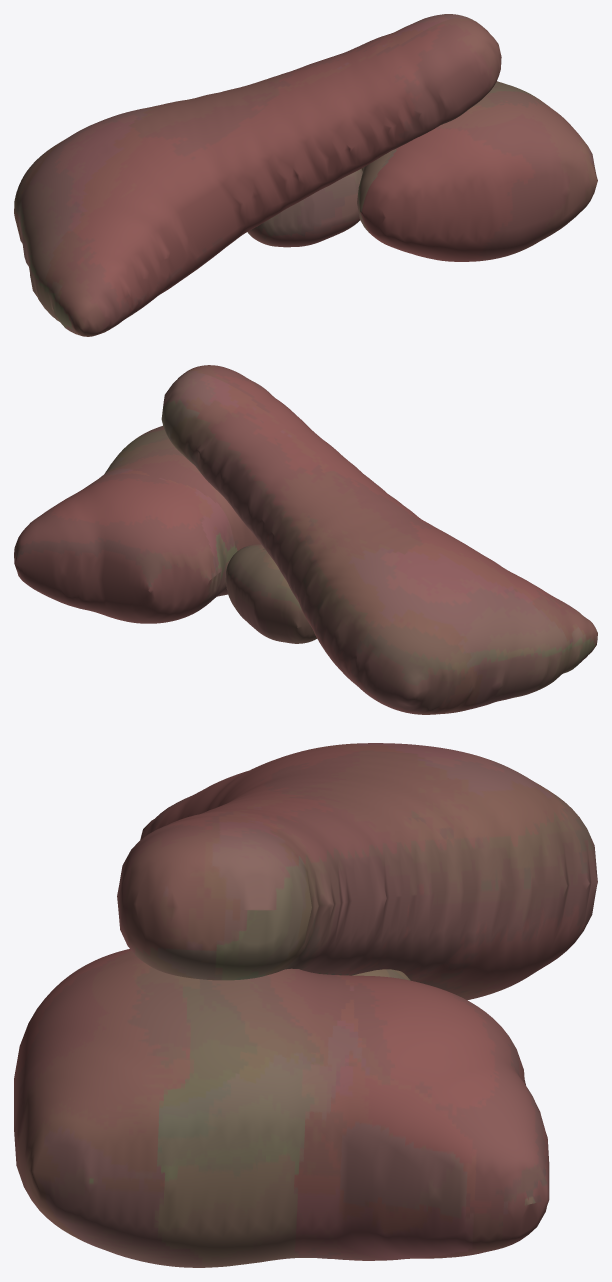
The model's file is RockWall Rock.fbx.
The picture shows the model from 3 angles, top to bottom: view 1: azimuth 30°, elevation 25°; view 2: azimuth 150°, elevation 25°; view 3: azimuth 270°, elevation 25°; orthographic projection. The views are drawn at different scales.
Parts seen in each view (by area): view 1: root (×3); view 2: root (×3); view 3: root (×2).
Part boxes in pixels (box(x1,y1,x2,y2)): root (×3): box(14, 14, 597, 336); root (×3): box(14, 365, 597, 714); root (×2): box(14, 743, 597, 1267).
Bounding box in the file's own units: 0.1295 × 0.0563 × 0.0729.
3 materials, 3 textured.
